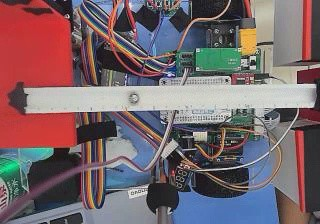ironball: (127, 93, 137, 103)
